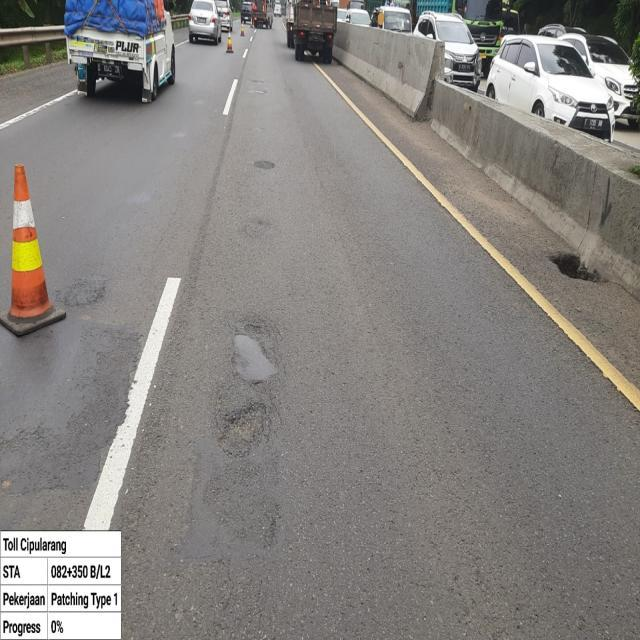Buraco: (214, 400, 274, 460), (539, 250, 621, 288), (252, 160, 276, 170)
